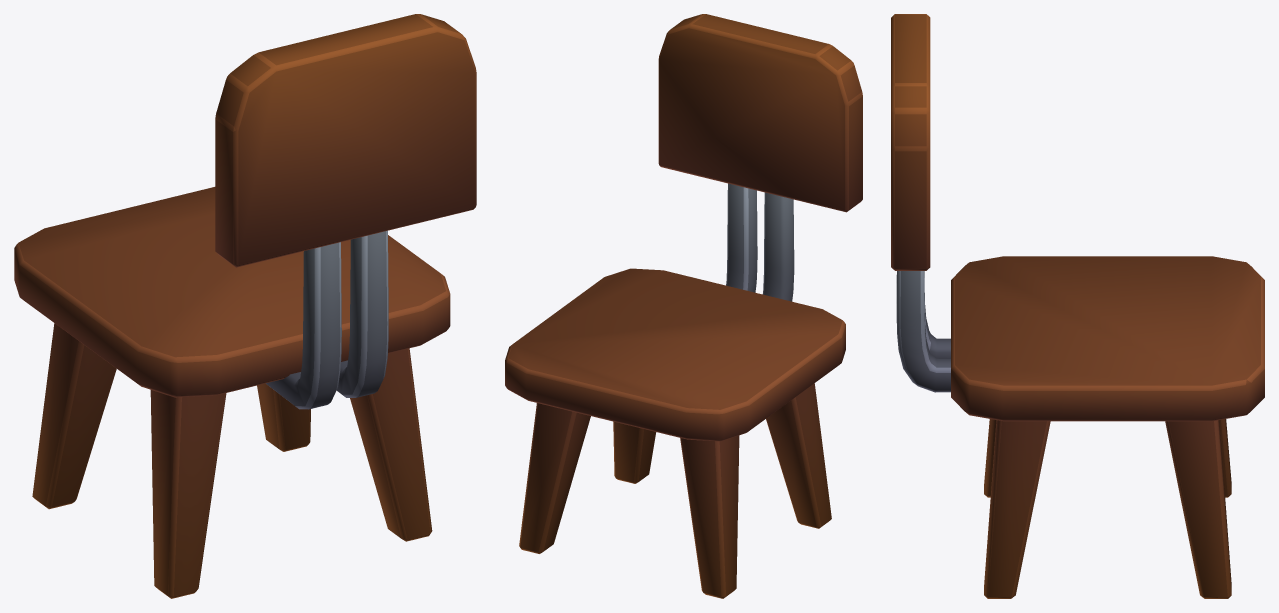
Rendered from chair2.fbx.
3 views of the same model, side by side, from view 1: azimuth 30°, elevation 25°; view 2: azimuth 150°, elevation 25°; view 3: azimuth 270°, elevation 25° (orthographic). The views are drawn at different scales.
Parts seen in each view (by area): view 1: chair; view 2: chair; view 3: chair.
Boxes of the visible parts, x1=… form: chair: x1=14, y1=14, x2=476, y2=598; chair: x1=505, y1=14, x2=862, y2=598; chair: x1=891, y1=14, x2=1264, y2=598.
Size of the model in its own units: 159 by 277 by 190.
